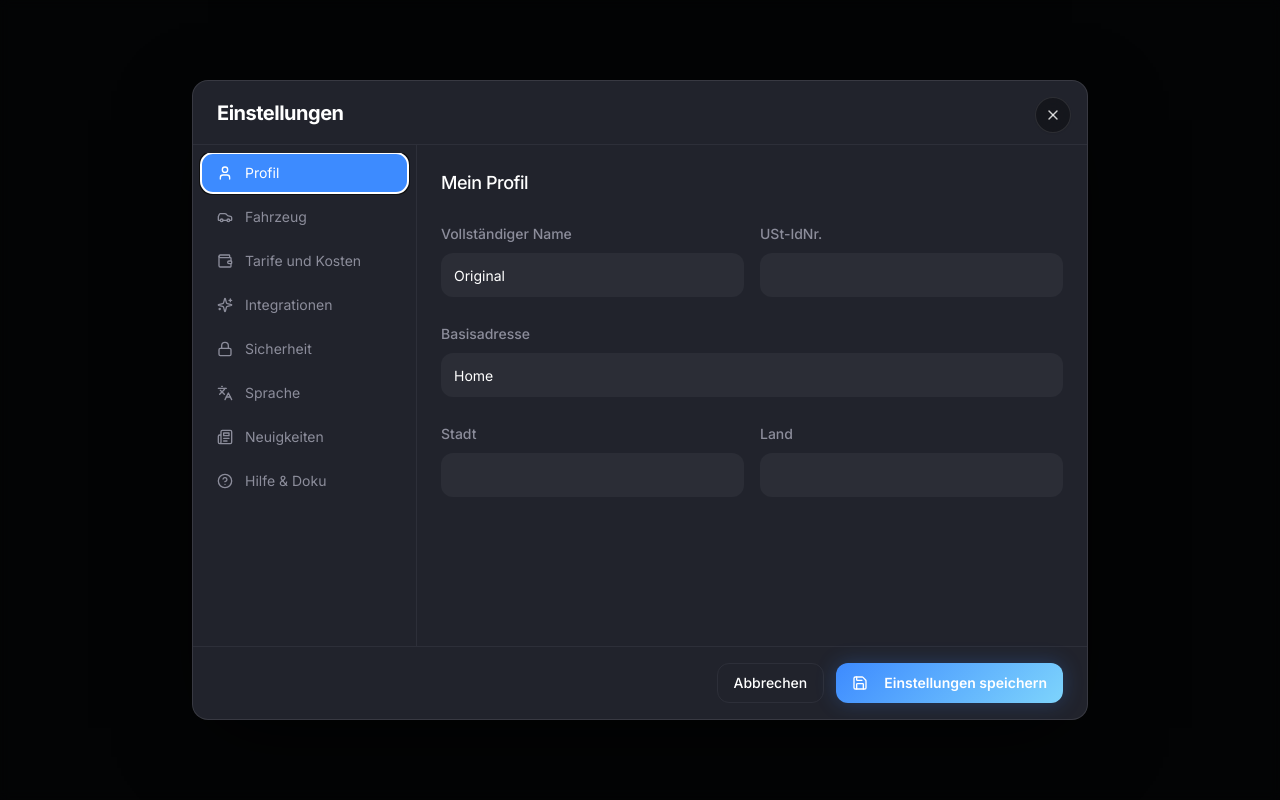
keeps settings sections and dialog controls in de
The width and height of the screenshot is (1280, 800).
Expected: the button named "Schließen" is shown, [1035,97,1071,133]
Click the button "Sicherheit" at (304, 349), box [201,329,408,369]
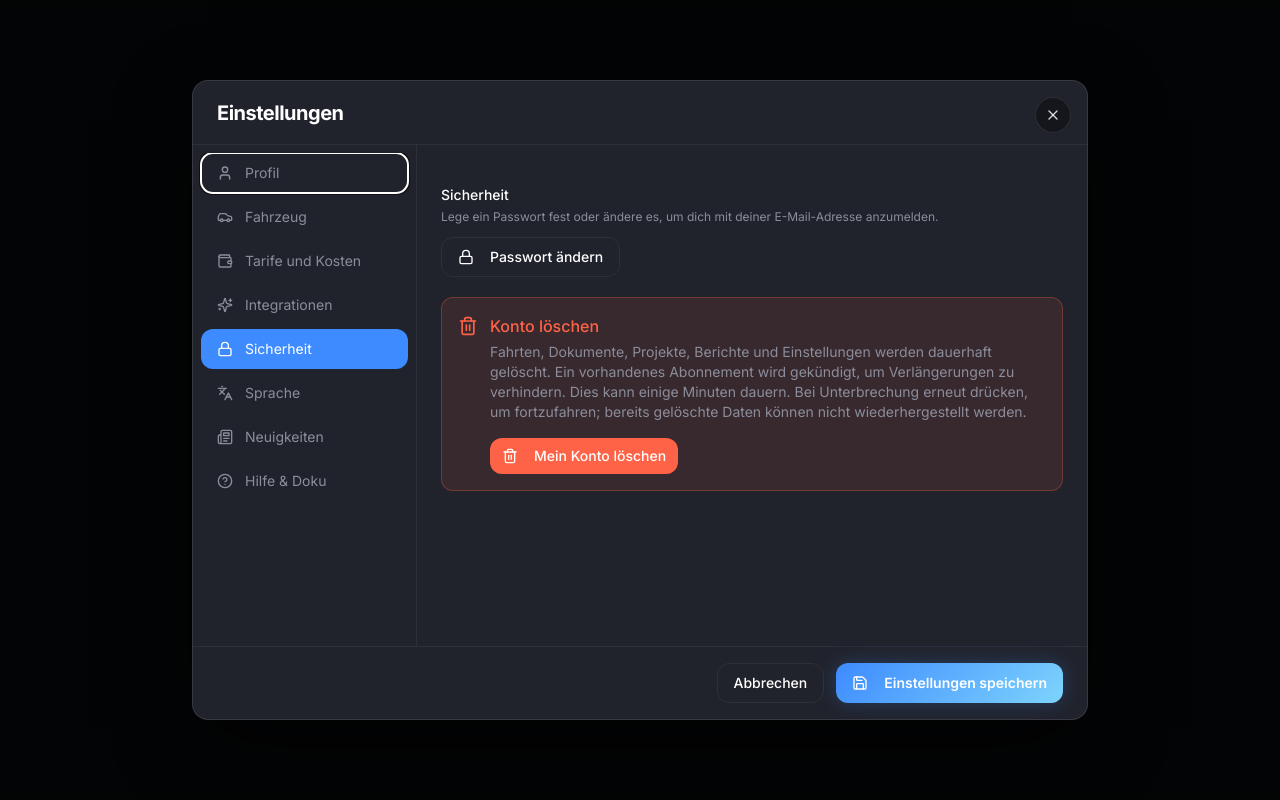
Expected: the button "Passwort ändern" is shown, [441,237,620,277]
Click the button "Integrationen" at (304, 305), box [201,285,408,325]
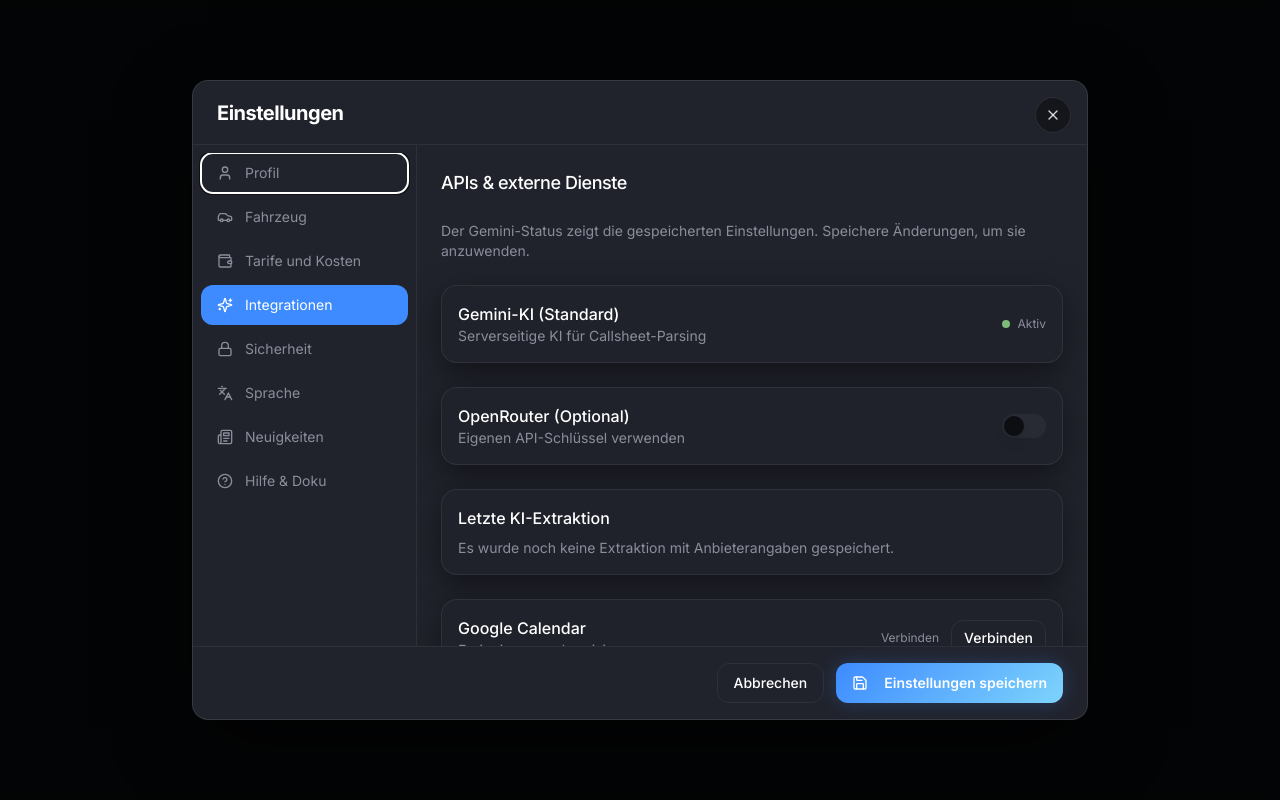
Expected: the heading "Gemini-KI (Standard)" is shown, [458,304,620,324]
